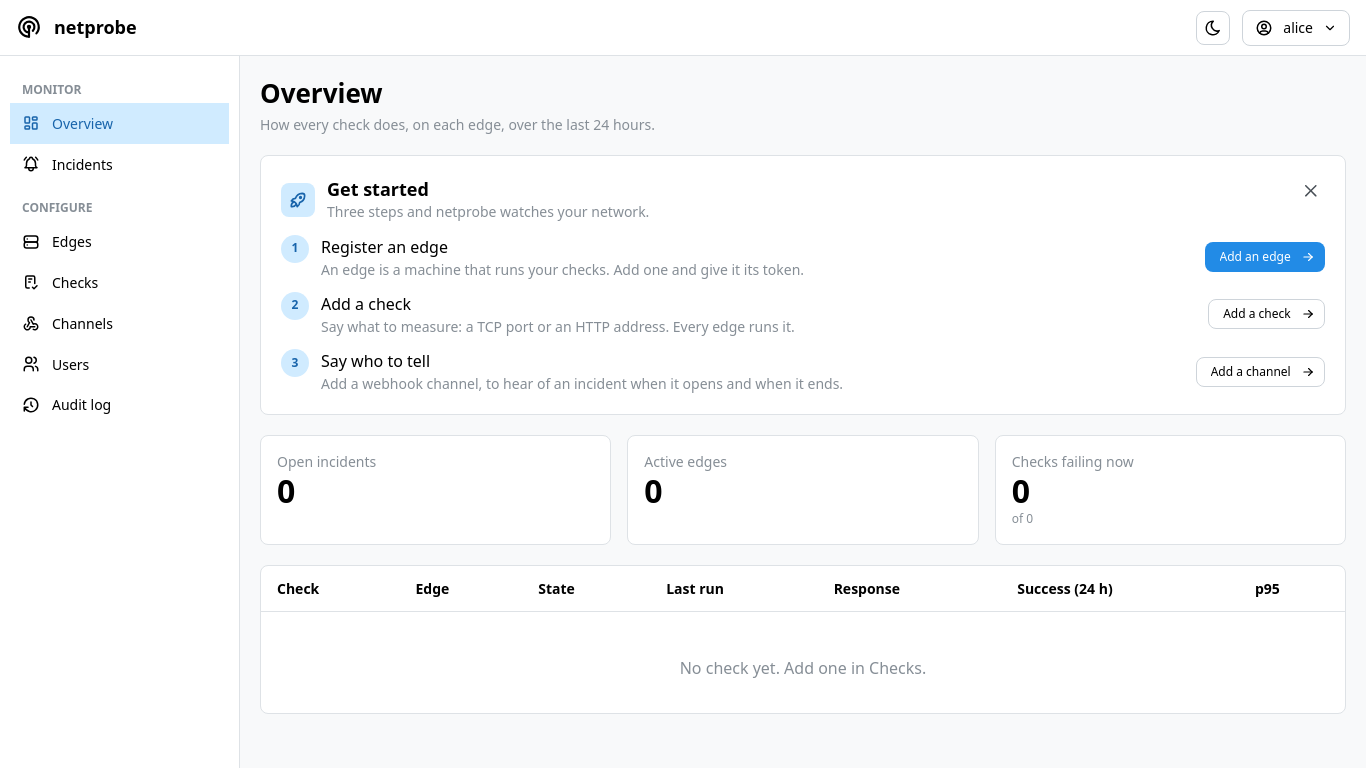
Test: getting started › can be hidden, and stays hidden
The image size is (1366, 768).
What coordinates should you click on to do the following:
click the button named "Hide the getting started guide"
I would click on:
 (1311, 190)
Its box is [1297,176,1325,204].
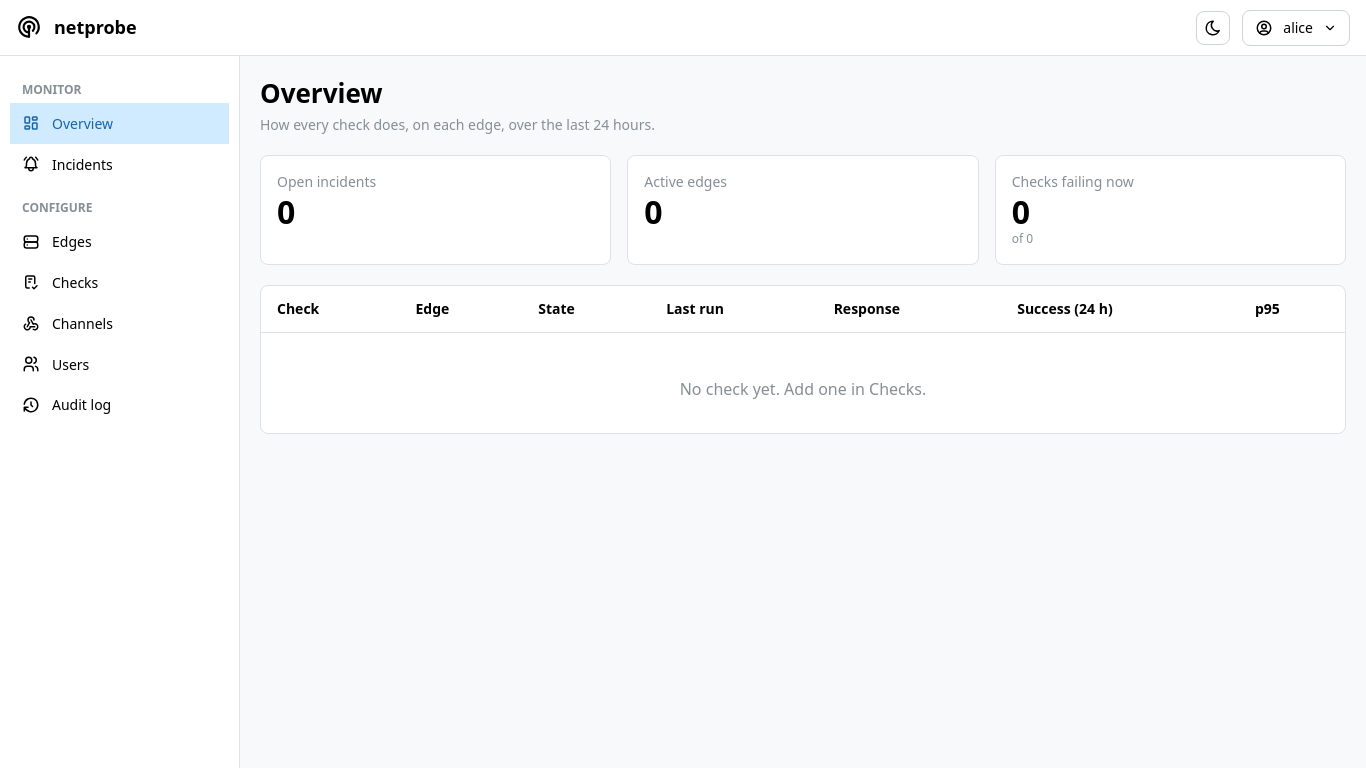
Now the heading "Get started" is gone
